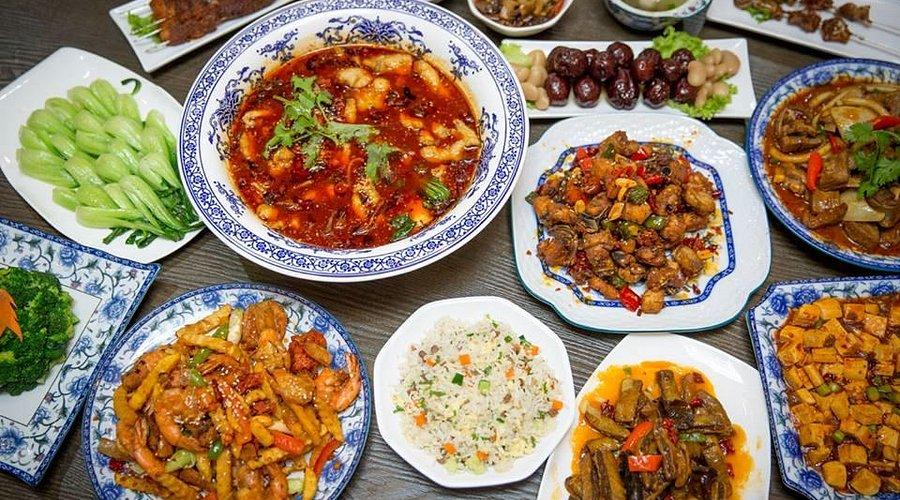Braised Crucian Carp: (181, 2, 517, 288), (85, 281, 363, 497), (509, 108, 772, 335), (0, 43, 215, 267), (530, 331, 774, 496), (371, 295, 573, 490), (749, 278, 900, 500), (752, 58, 900, 279), (499, 31, 757, 124)
